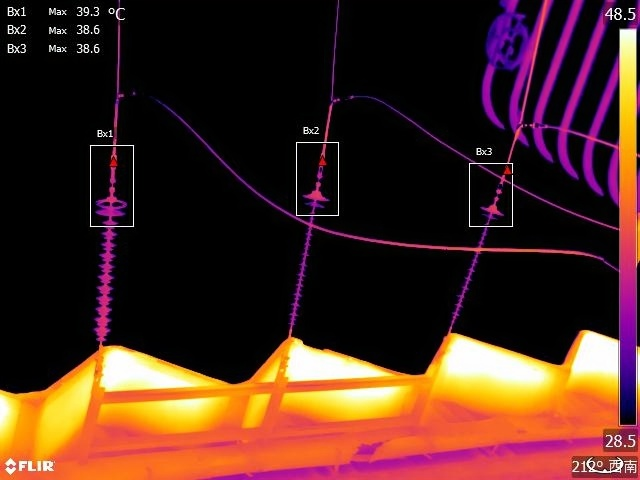clamp: (509, 114, 549, 138), (323, 86, 352, 114), (109, 84, 137, 105)
insulator: (444, 197, 511, 337), (89, 187, 131, 357), (287, 178, 331, 335)
